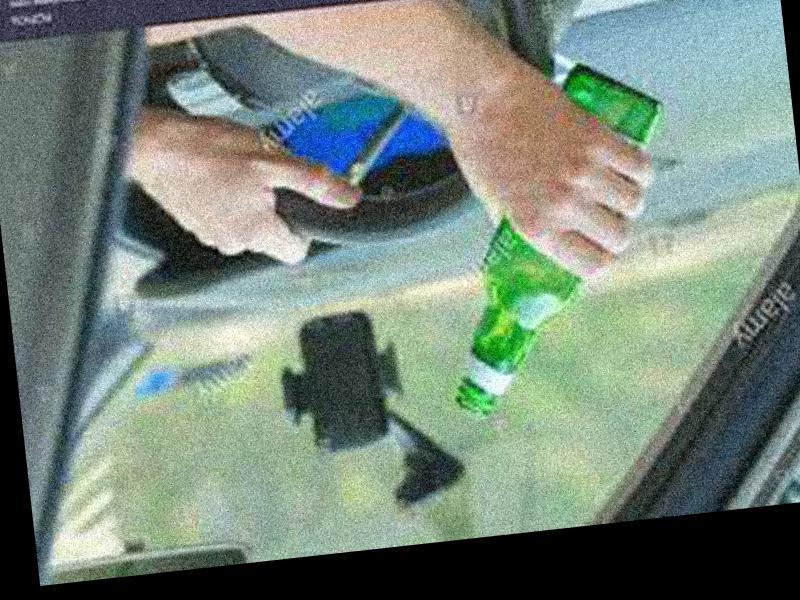Beer: (423, 52, 684, 414)
